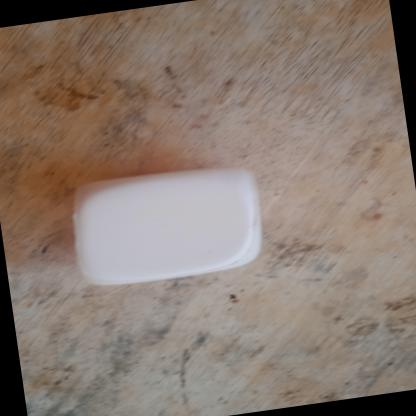Cube: (60, 154, 276, 294)
